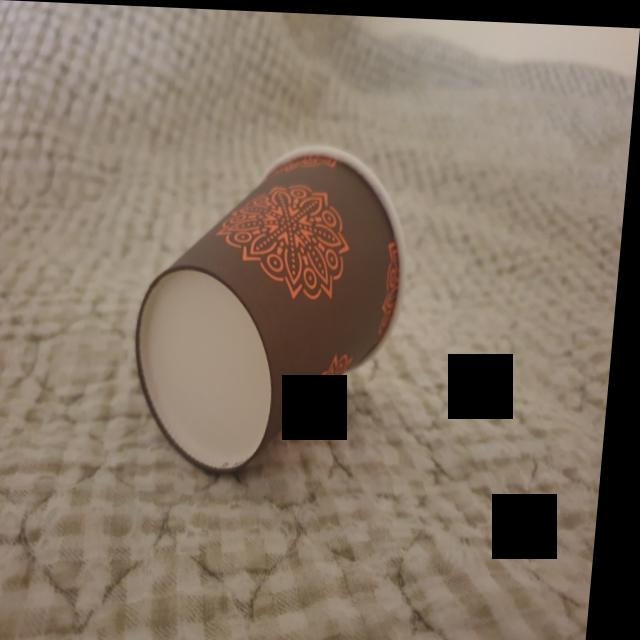cups: (122, 123, 428, 487)
